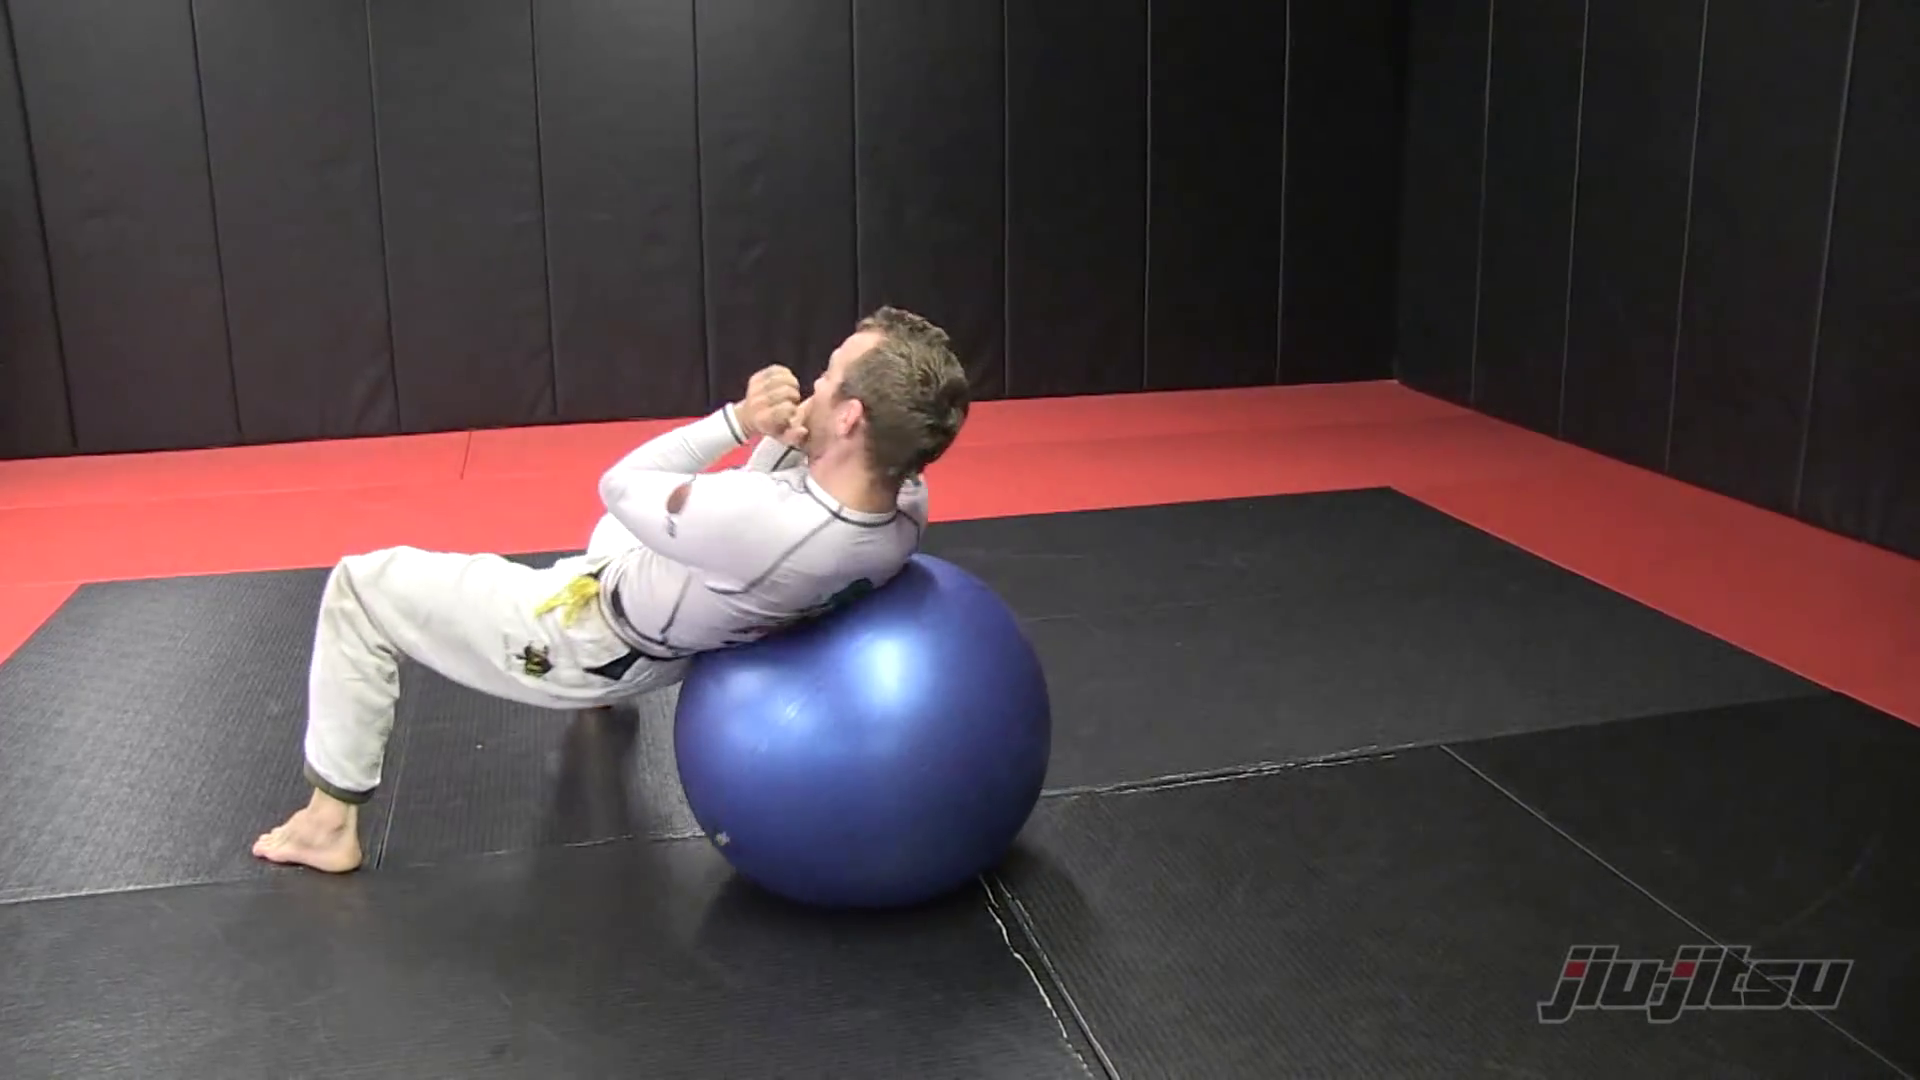yogaball: (676, 538, 1095, 942)
